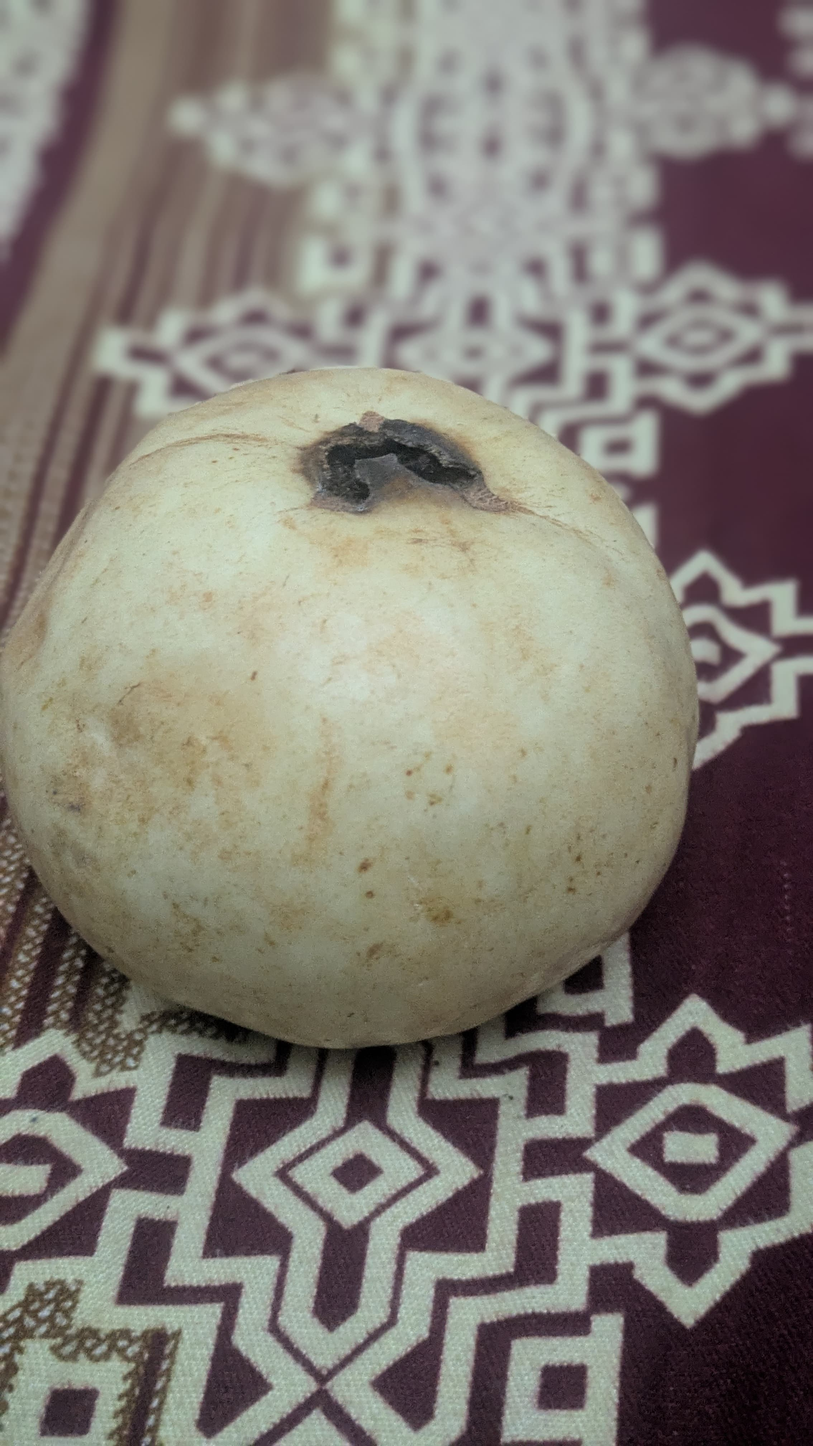guava: (99, 152, 748, 1126)
